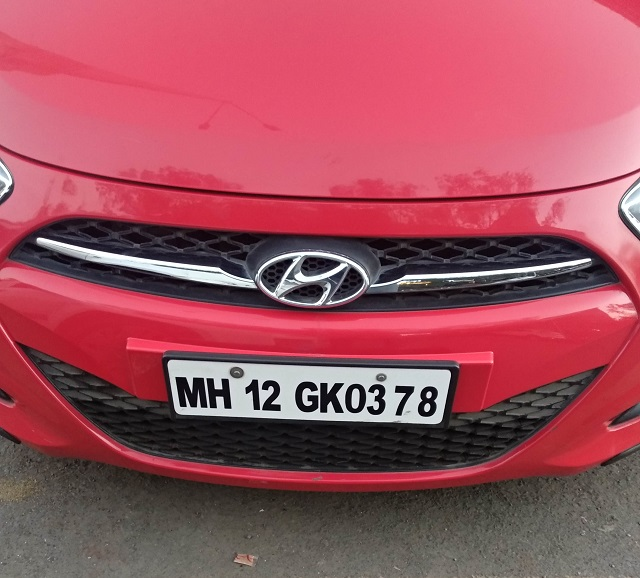licenseplate: (163, 352, 456, 432)
